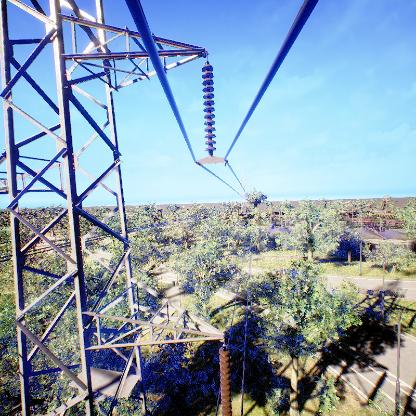insulator: (199, 64, 217, 155), (217, 345, 232, 416)
